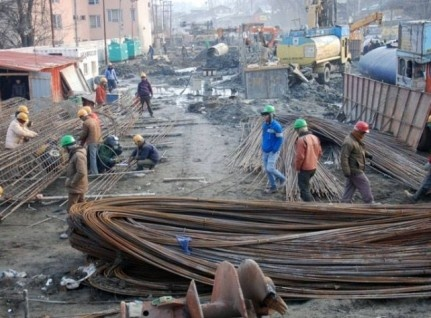red: (352, 121, 368, 139)
yellow: (16, 112, 28, 125), (133, 135, 144, 146), (77, 109, 88, 120), (99, 77, 106, 86), (140, 72, 146, 80)
